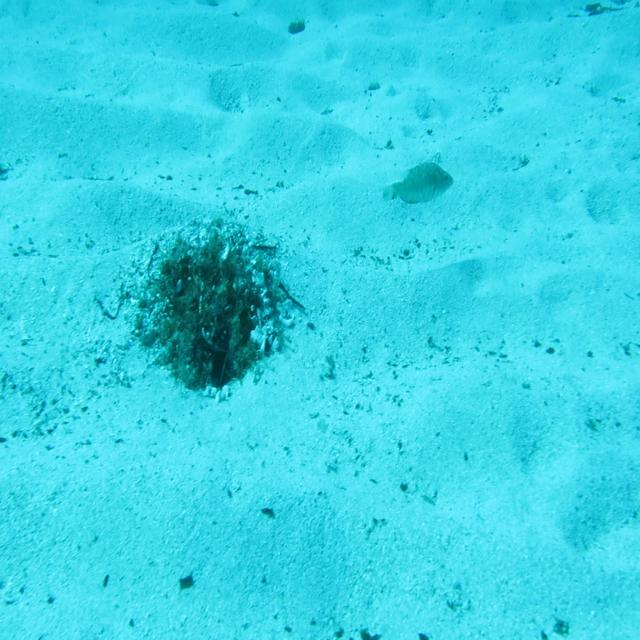SA: (380, 150, 460, 218)
nest: (130, 216, 295, 401)
